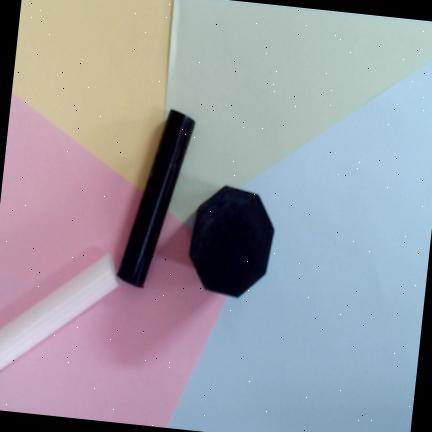Cilindro: (116, 108, 196, 290), (0, 251, 121, 371)
Prisma_hexagonal: (188, 185, 275, 297)
